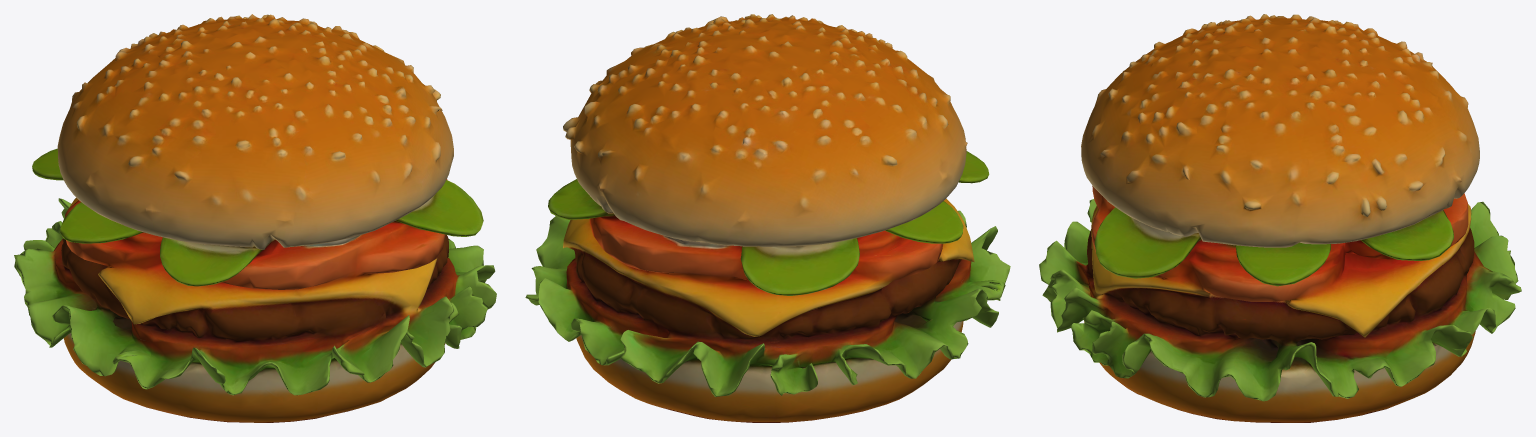
File: medium-rare-burger.glb
3 renders of one model, left to right at view 1: azimuth 30°, elevation 25°; view 2: azimuth 150°, elevation 25°; view 3: azimuth 270°, elevation 25°, orthographic.
Parts seen in each view (by area): view 1: tripo_node_438b5714-5600-4eef-b364-03f11e3a7fb8_0; view 2: tripo_node_438b5714-5600-4eef-b364-03f11e3a7fb8_0; view 3: tripo_node_438b5714-5600-4eef-b364-03f11e3a7fb8_0.
Part boxes in pixels (box(x1,y1,x2,y2)): tripo_node_438b5714-5600-4eef-b364-03f11e3a7fb8_0: box(14, 14, 496, 422); tripo_node_438b5714-5600-4eef-b364-03f11e3a7fb8_0: box(525, 14, 1010, 422); tripo_node_438b5714-5600-4eef-b364-03f11e3a7fb8_0: box(1039, 14, 1521, 422).
Bounding box in the file's own units: 0.9963 × 0.7088 × 0.9957.
1 material, 1 textured.
